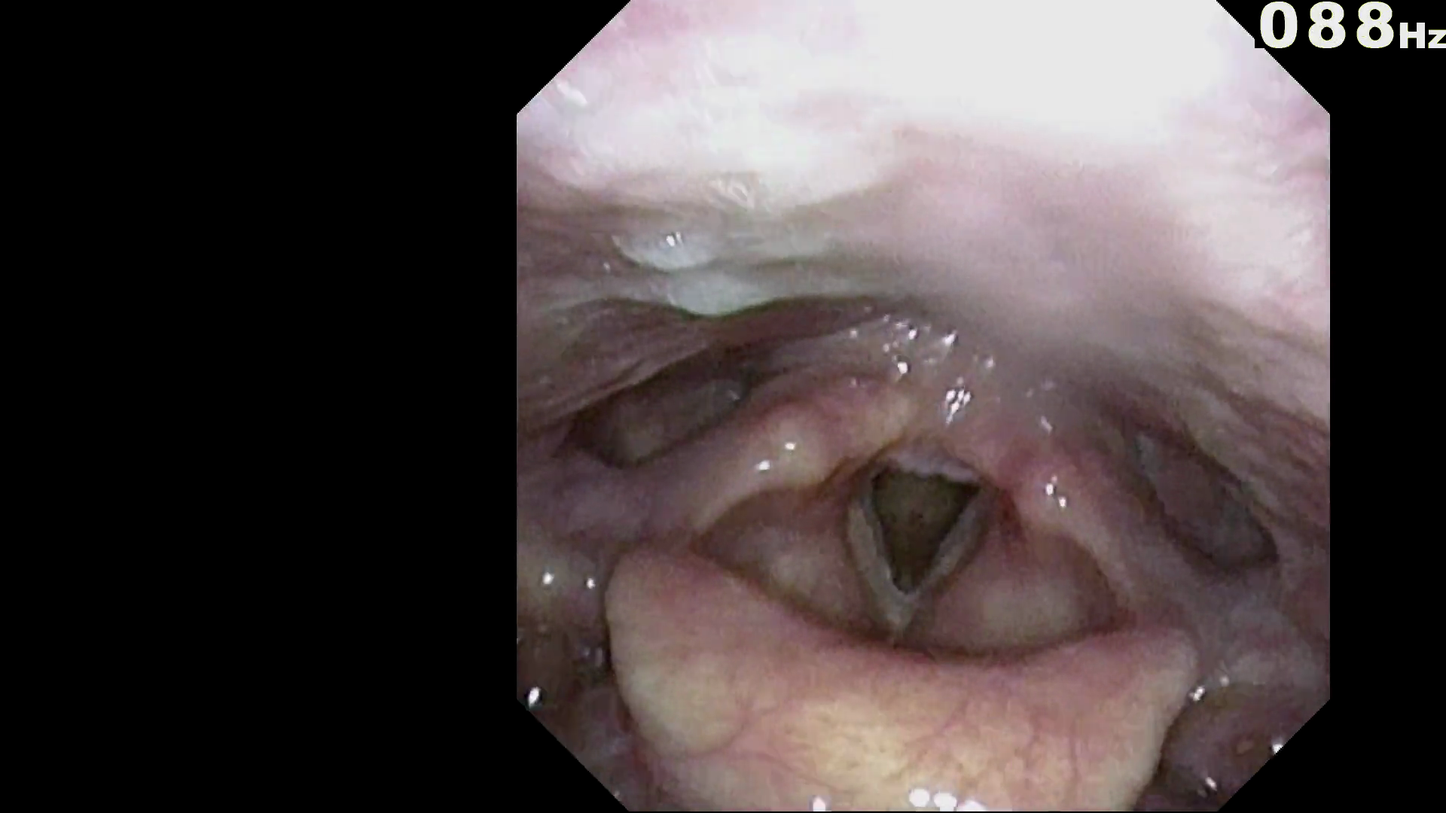epiglottis: (626, 617, 1185, 790)
trachea: (856, 455, 976, 625)
